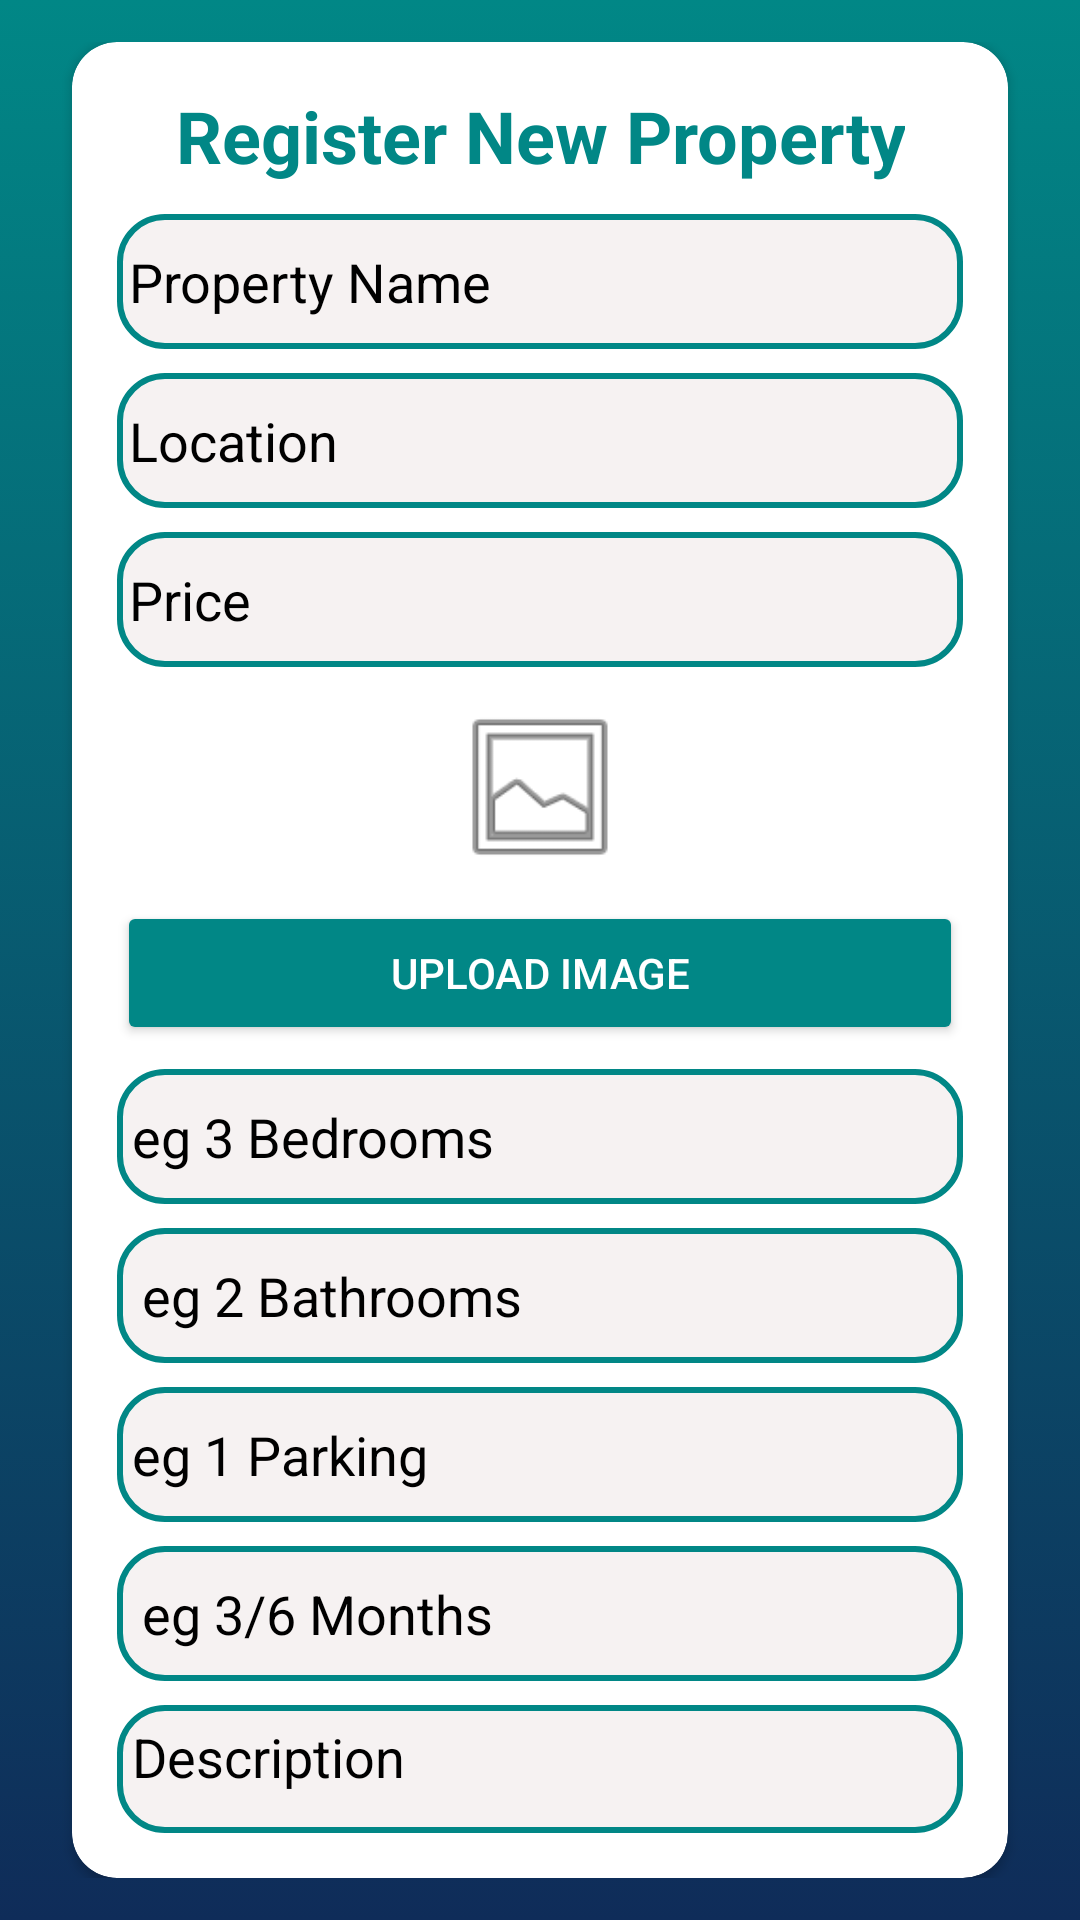

Icon bounding boxes for this 1080x1920 phone screenshot, format (x1, y1, x2, y2):
gallery: (472, 719, 608, 855)
